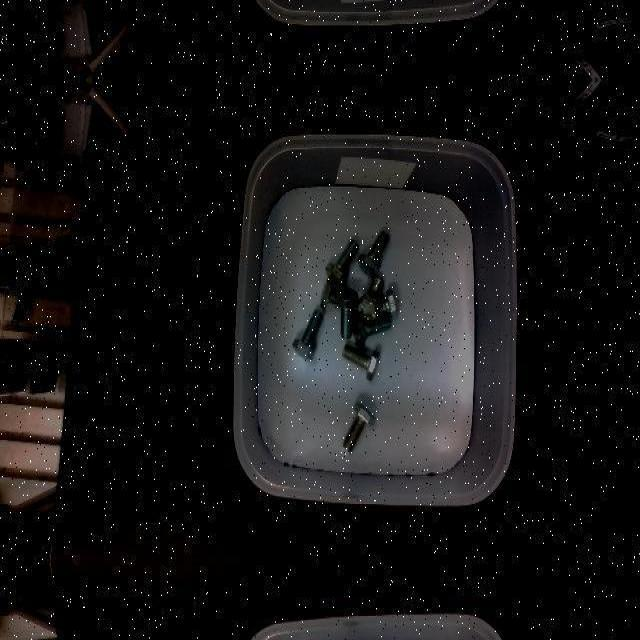screw: (291, 308, 323, 360), (343, 401, 375, 451), (325, 239, 358, 287), (358, 229, 391, 275), (341, 344, 380, 382), (357, 276, 383, 322), (337, 288, 357, 340)
